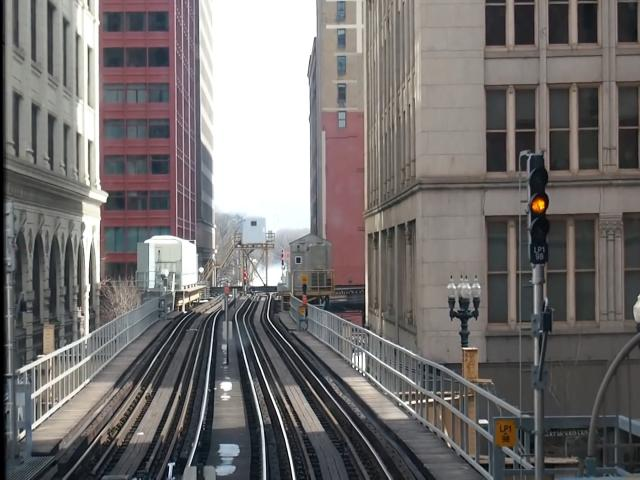signal light: (526, 151, 552, 269), (282, 250, 286, 270), (245, 269, 249, 284)
